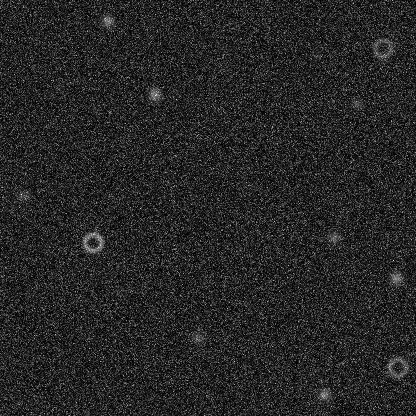Ring: (80, 230, 104, 254), (385, 355, 409, 379), (370, 36, 394, 60)
Spot: (316, 386, 332, 402), (41, 241, 57, 257), (214, 42, 230, 58), (14, 187, 30, 203), (99, 13, 115, 29), (146, 86, 162, 102), (325, 229, 341, 245), (189, 329, 205, 345), (388, 270, 404, 286), (308, 45, 324, 61), (348, 95, 364, 111)
